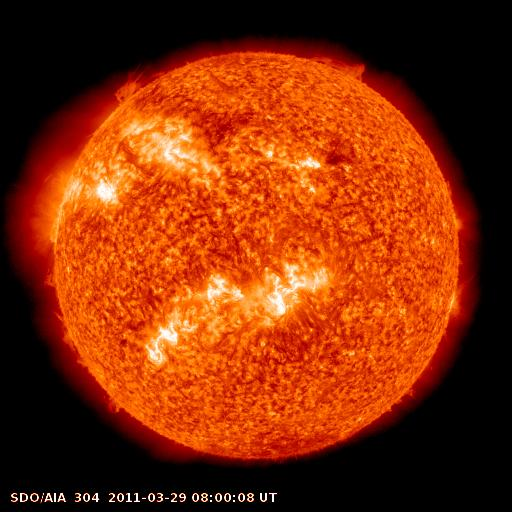prominence: (48, 309, 96, 375), (103, 61, 159, 109), (307, 46, 371, 86), (97, 390, 132, 423), (38, 266, 61, 295)
